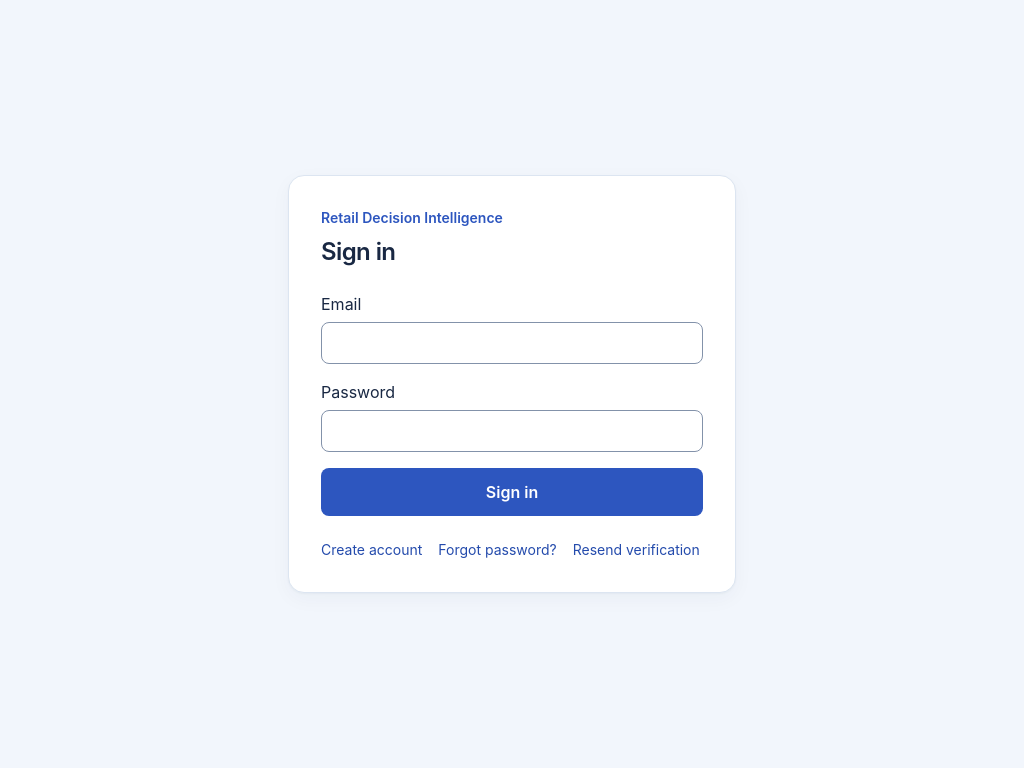
Test: requires sign-in for a deep link and returns there after authentication
Check: the heading "Sign in" is shown, box [321,237,395,266]
Type "analyst@example.com" into the field labelled "Email".
click(512, 343); type("analyst@example.com")  # box [321,322,703,364]
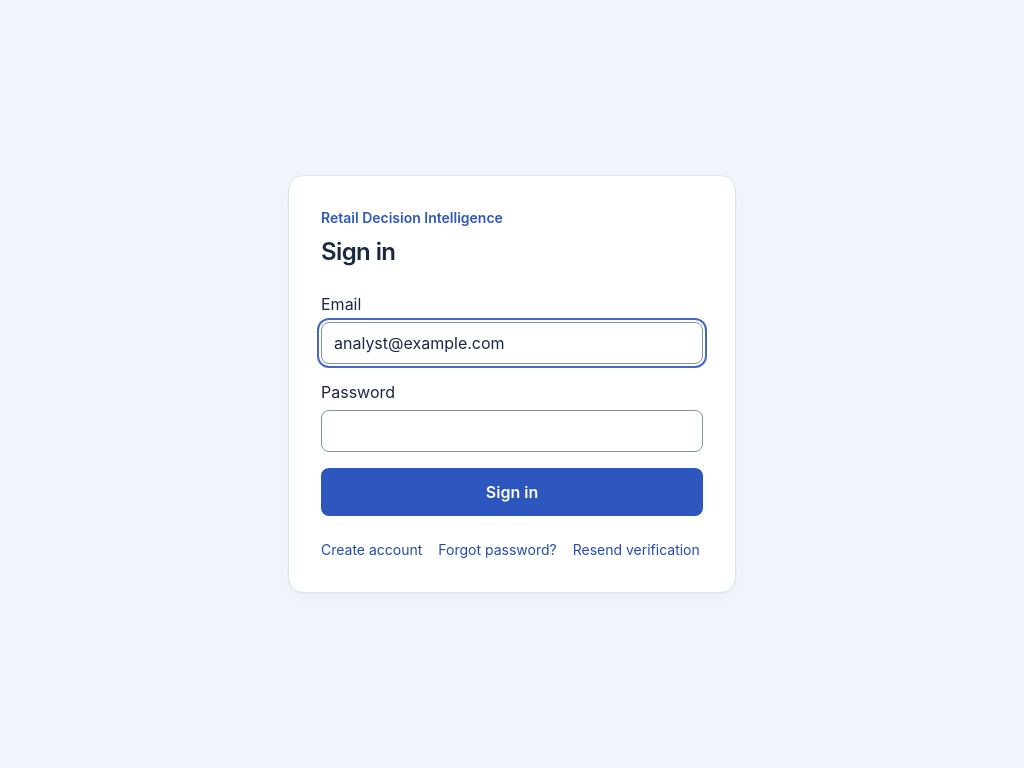
Type "A long test passphrase" into the password field labelled "Password".
click(512, 431); type("A long test passphrase")  # box [321,410,703,452]
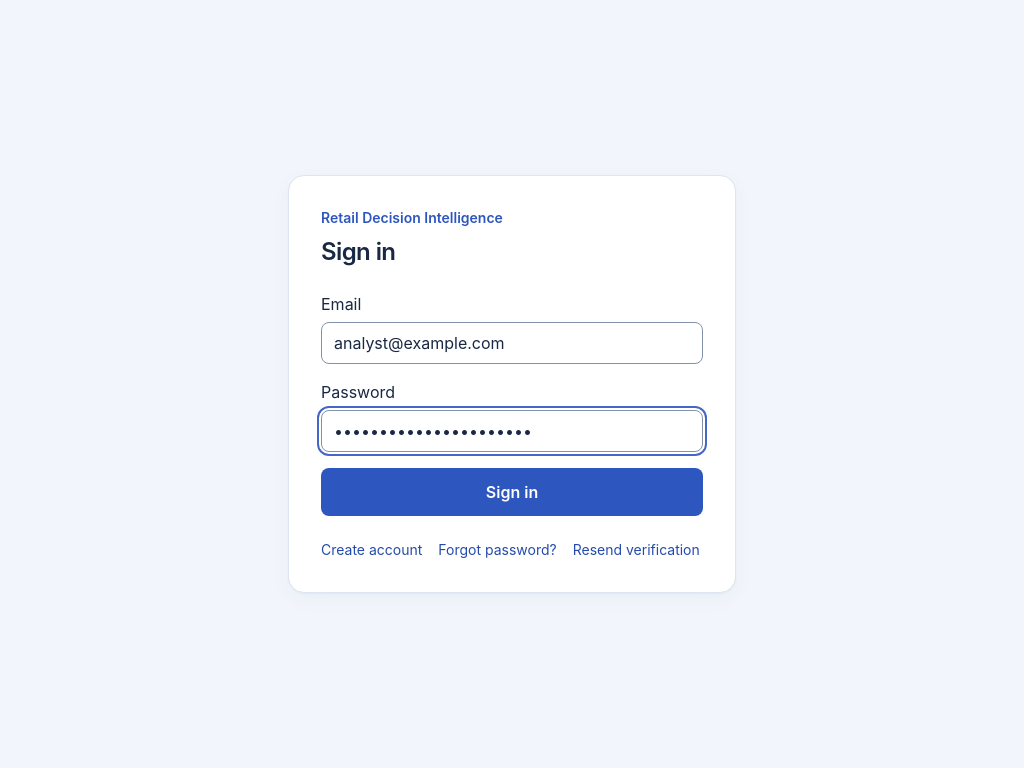
Click the button "Sign in".
click(512, 492)  # box [321,468,703,516]
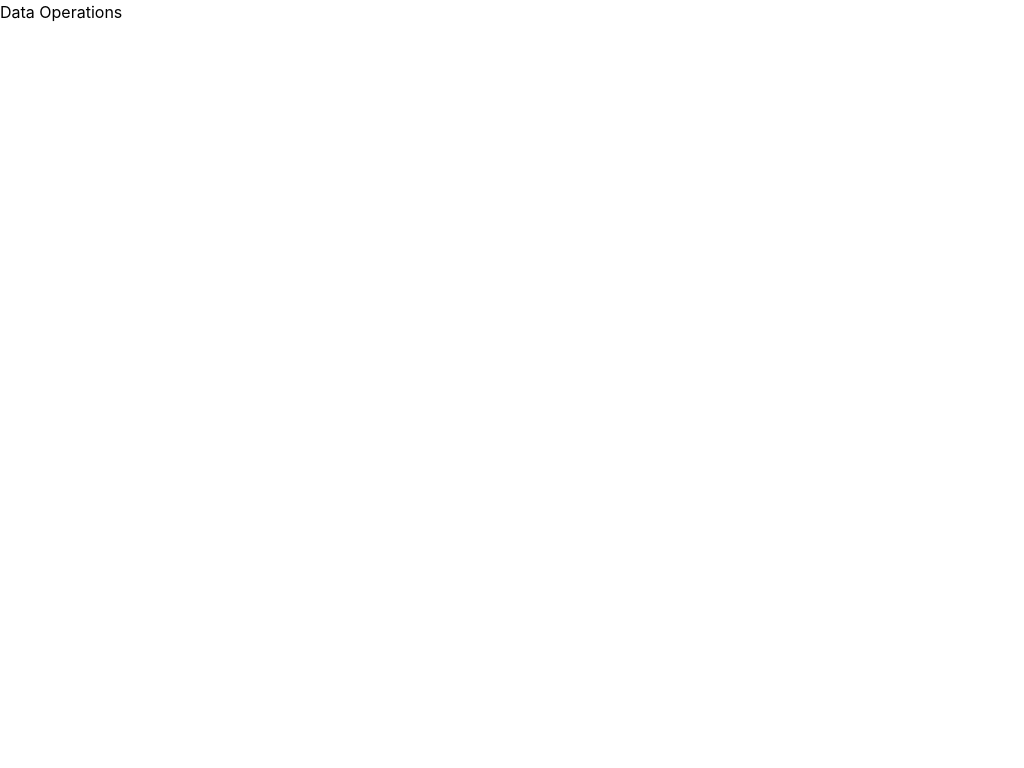
Check: the heading "Data Operations" is shown, box [0,2,122,22]
